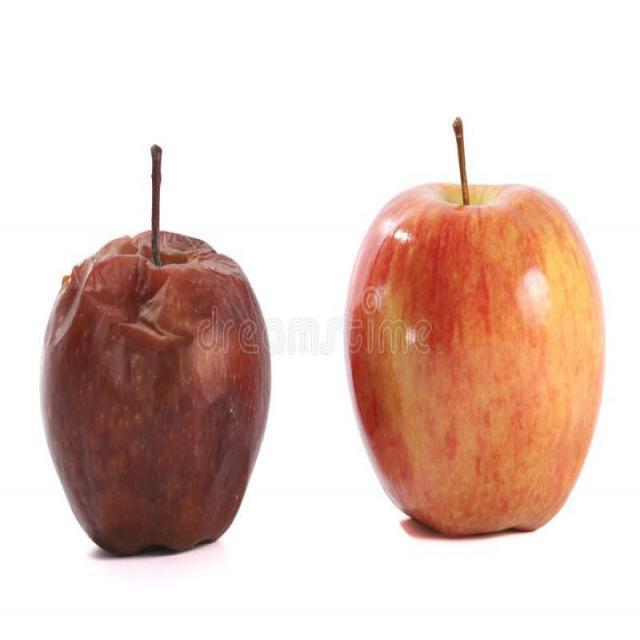Fresh Apple: (355, 184, 610, 558)
Rotten: (64, 228, 264, 557)
